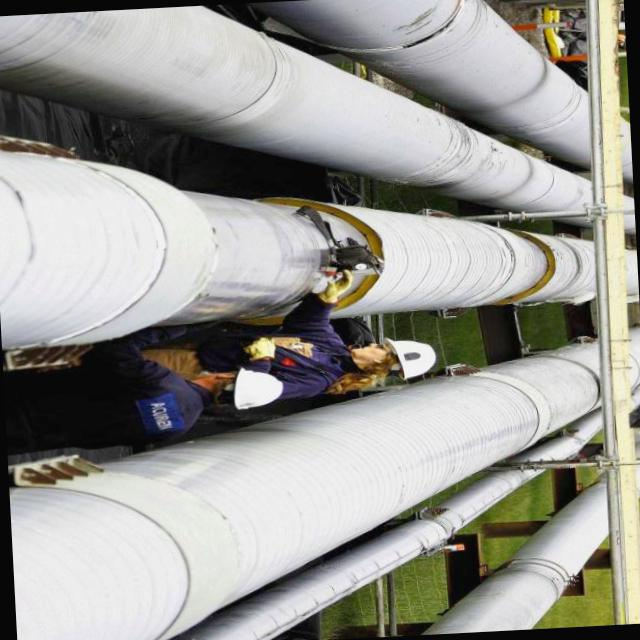gas: (8, 345, 598, 640), (0, 6, 591, 211), (0, 152, 595, 348), (171, 470, 541, 640), (246, 0, 589, 166), (423, 481, 607, 635), (525, 410, 601, 460)
